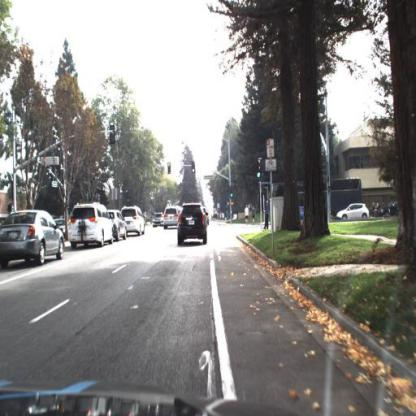car: (68, 202, 115, 249), (174, 199, 210, 250), (336, 200, 370, 220), (111, 207, 129, 243), (129, 203, 147, 236), (380, 196, 402, 223), (162, 203, 180, 231)
pedestrian: (262, 197, 271, 235), (243, 202, 251, 227), (252, 202, 258, 229)
trafficLight-Green: (255, 159, 264, 179), (191, 162, 197, 176), (230, 187, 235, 200)
trafficLight-RedLeft: (168, 162, 173, 175)
truck: (267, 175, 364, 212)
